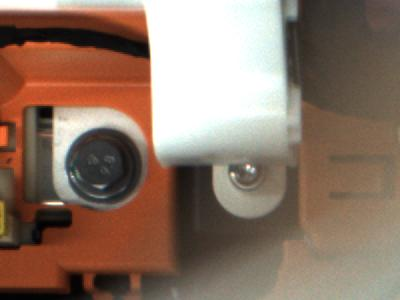nut_b: (57, 124, 151, 209)
